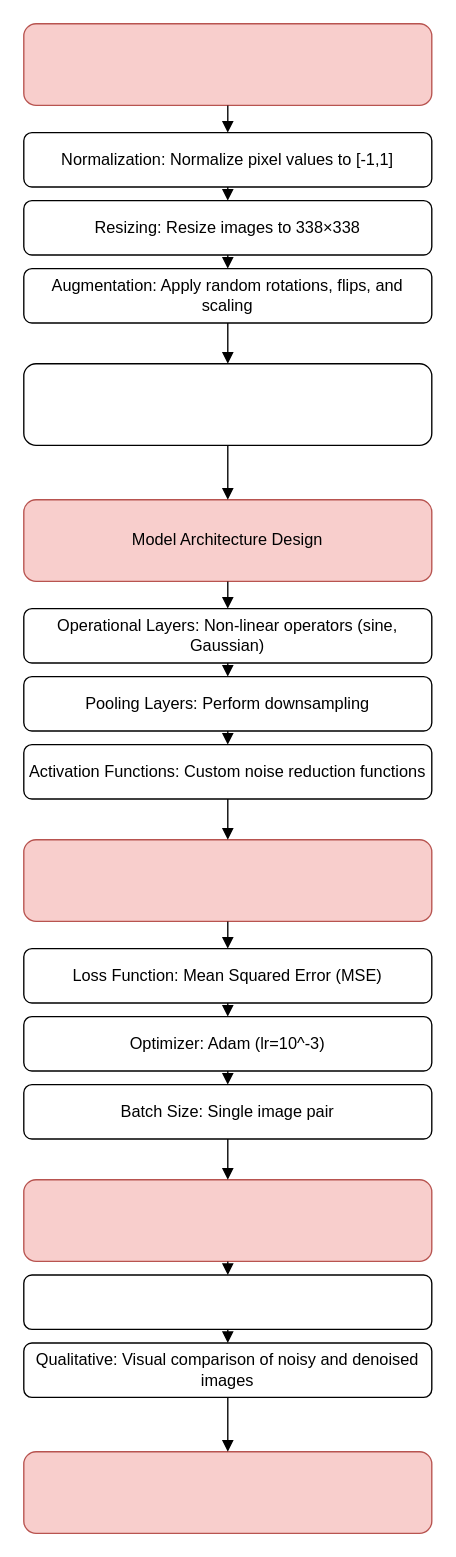
The diagram is 456 pixels wide and 1557 high, and some of its shapes have lost their labels. Each missing label, with the box of its shape:
Dataset Preparation: (22, 22, 432, 105)
Evaluation Setup: (22, 1178, 432, 1261)
Metrics: SNR, Precision, Recall, F1-score: (22, 1274, 432, 1329)
Noise Addition: Add Gaussian, salt-and-pepper, and other noises: (22, 362, 432, 445)
Results Visualization: Charts, metrics, Sample outputs: (22, 1450, 432, 1533)
Training Phase: (22, 838, 432, 921)
